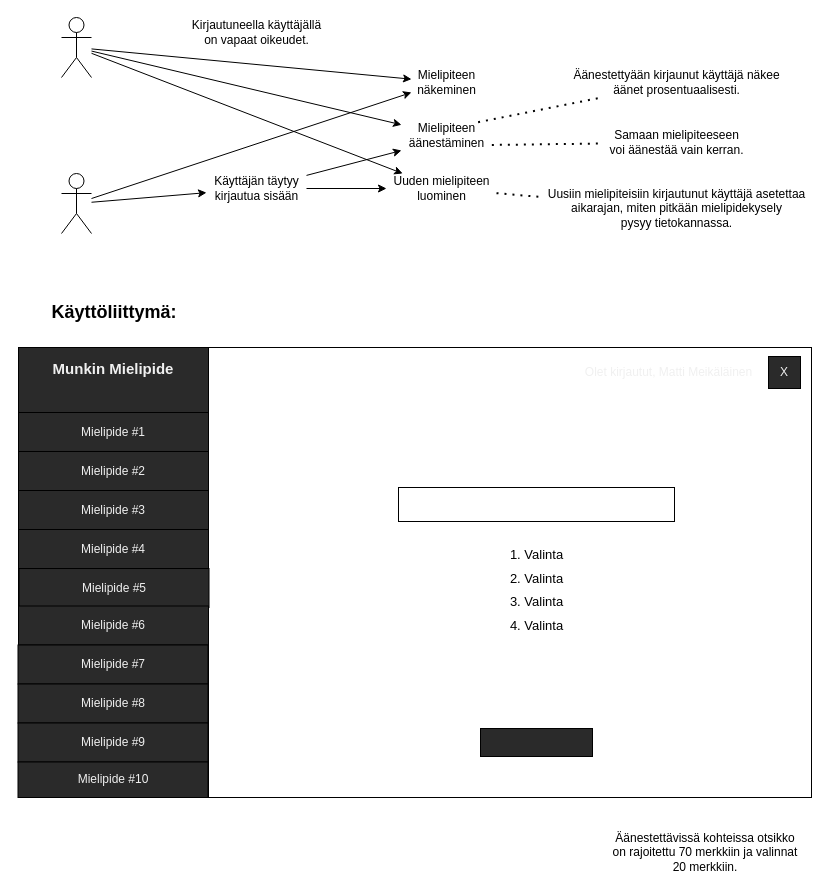
Image size: 829x895. Some labels were removed from this diagram. Each missing label, with the centre of its shape:
Kirjautunut käyttäjä: point (76, 47)
Luo mielipide: point (536, 742)
Mielipiteen otsikko: point (536, 504)
Uusi käyttäjä: point (76, 203)
